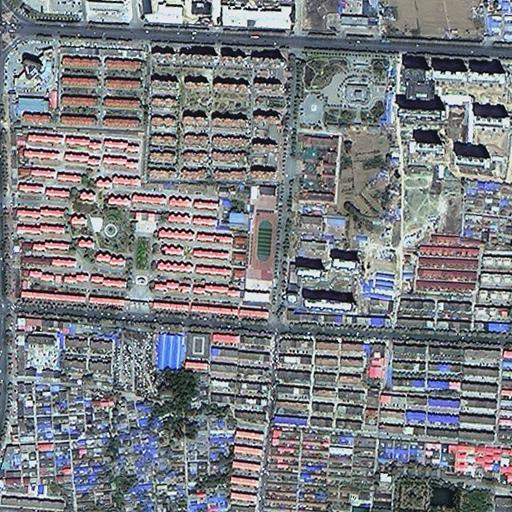school: (243, 181, 282, 309)
